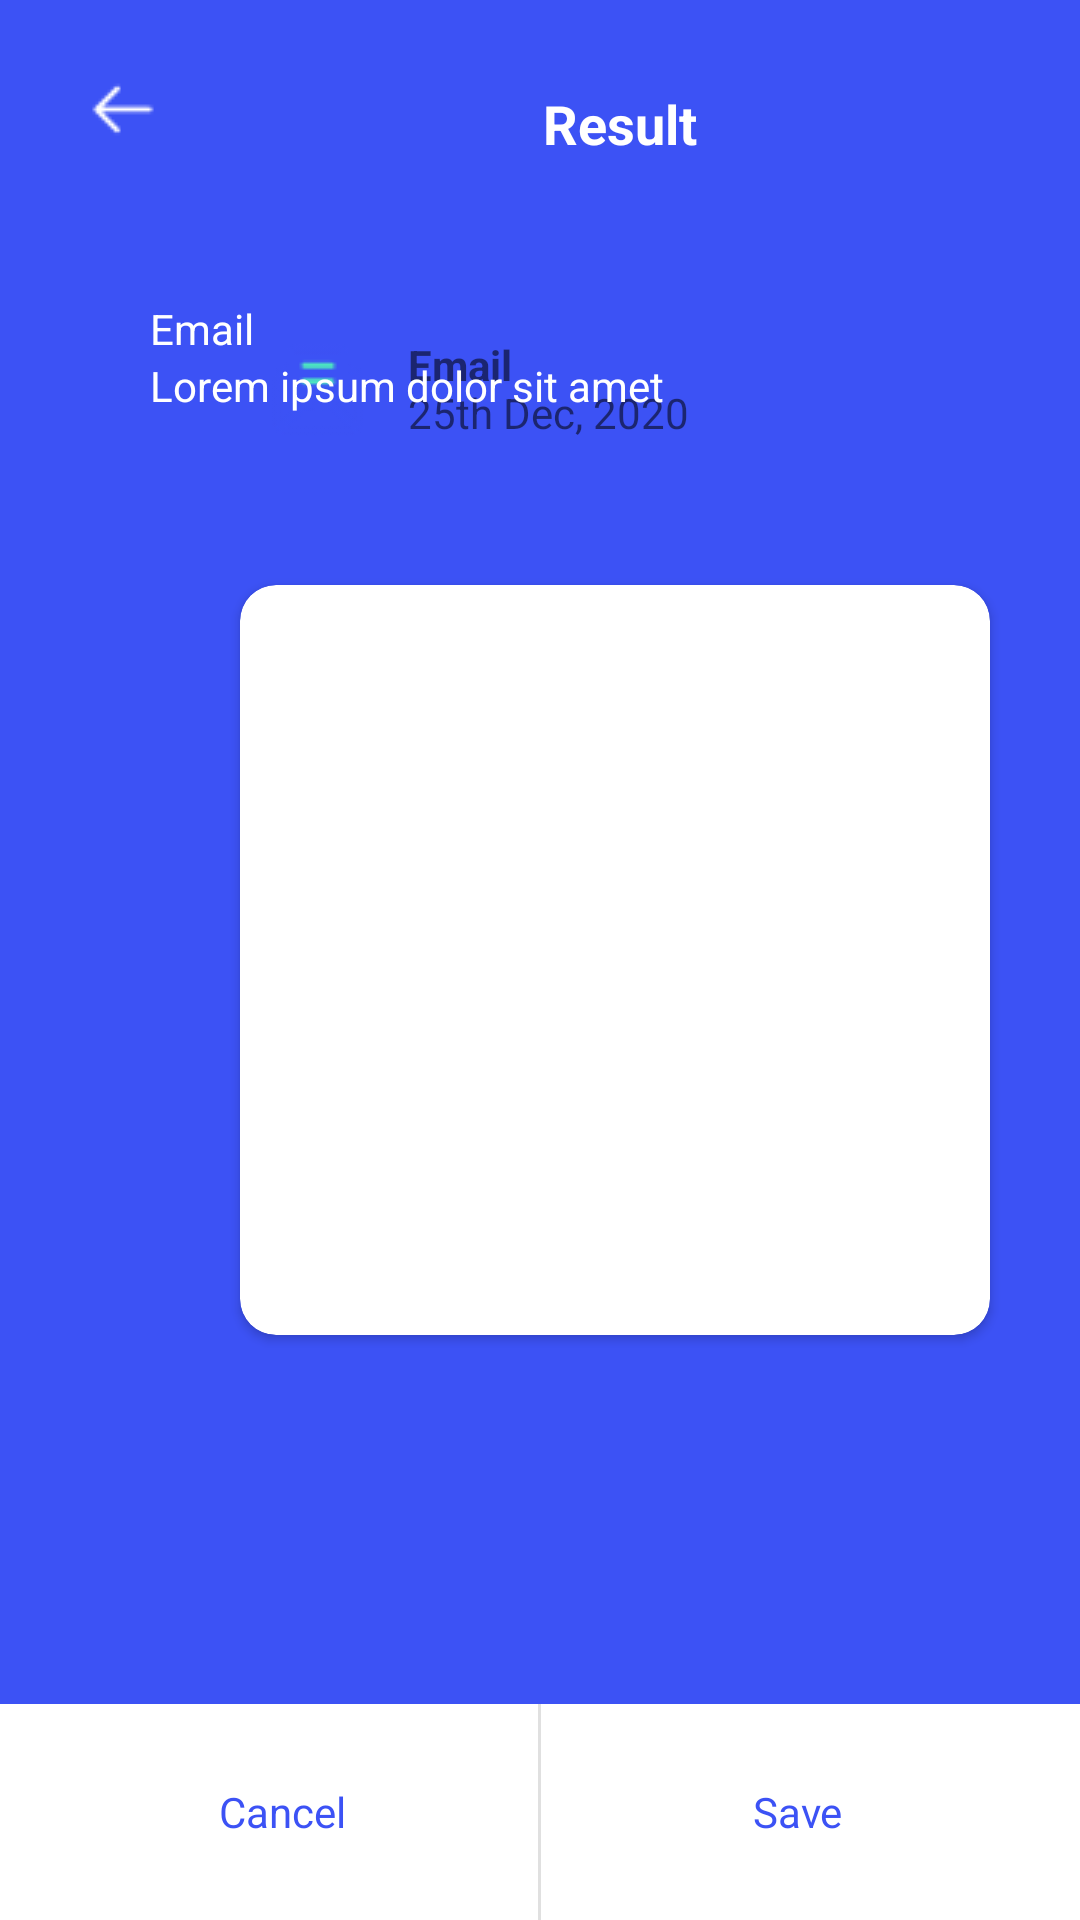

Icons on this 1080*1920 Android screen, each with its box as (x1, y1, x2, y2):
arrow back: (92, 86, 154, 133)
